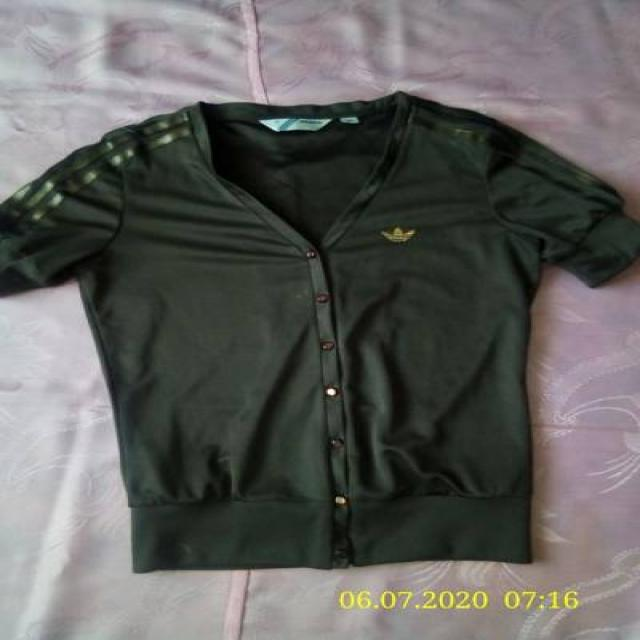Clothes -Biodegradable-: (0, 94, 640, 573)
